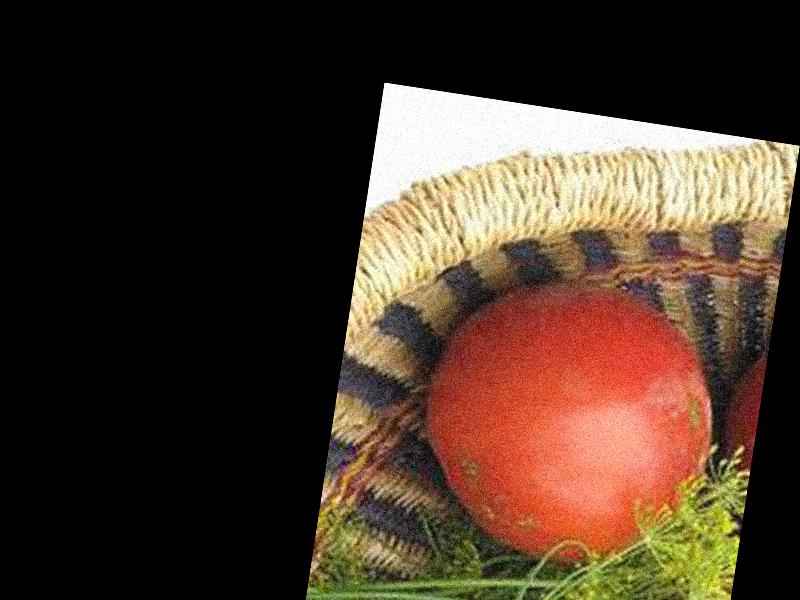Tomato: (409, 263, 732, 584)
